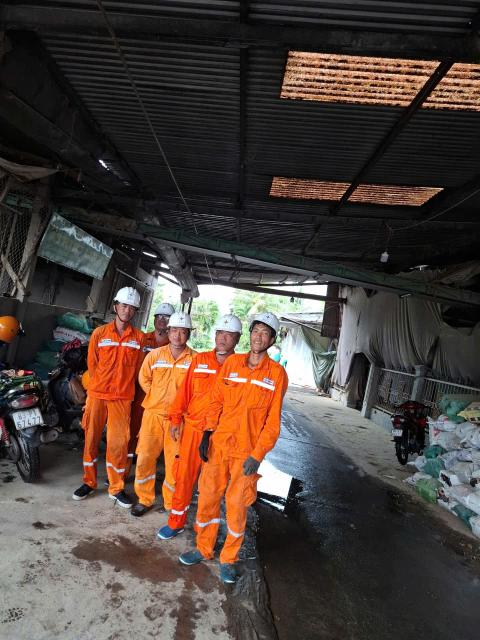gloves: (198, 428, 213, 464), (245, 453, 259, 481)
helmet: (248, 304, 283, 334), (113, 281, 142, 310), (212, 311, 246, 333), (167, 308, 196, 329), (152, 299, 176, 318)
shoes: (177, 543, 210, 567), (154, 517, 186, 539), (216, 558, 240, 586), (73, 476, 97, 502), (110, 487, 135, 509), (126, 498, 155, 516)
